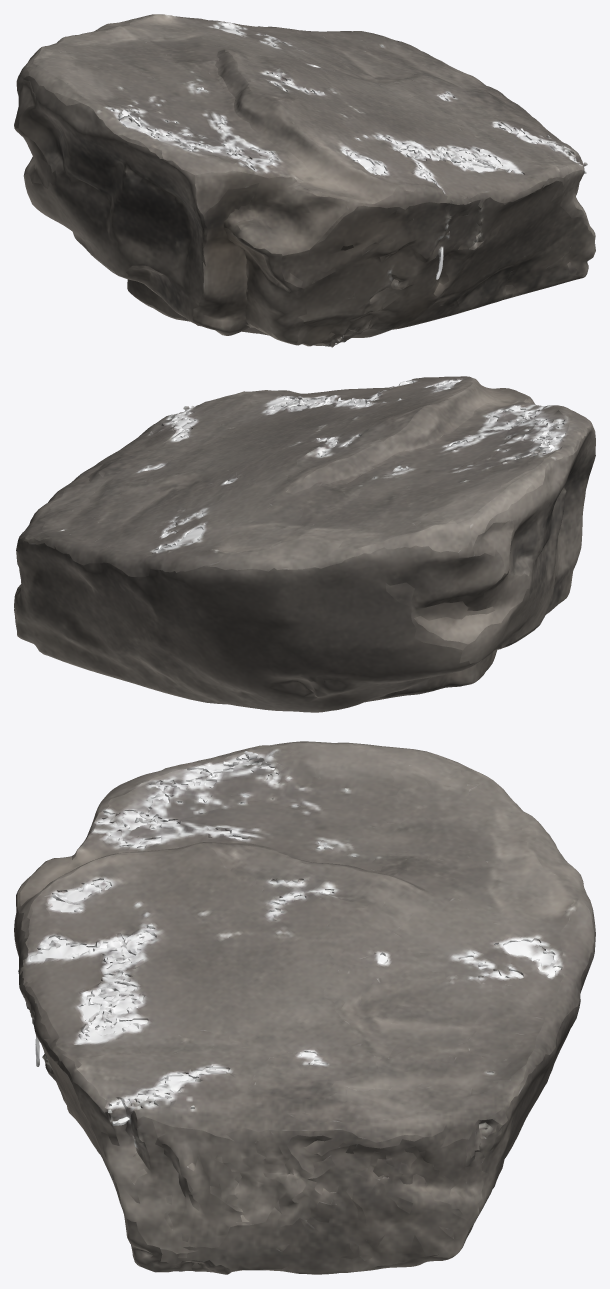
3 renders of one model, top to bottom at view 1: azimuth 30°, elevation 25°; view 2: azimuth 150°, elevation 25°; view 3: azimuth 270°, elevation 25°, orthographic. The views are drawn at different scales.
Visible parts, largest first — view 1: world; view 2: world; view 3: world.
Part boxes in pixels (bbox=[...]): world: bbox=[14, 14, 595, 347]; world: bbox=[14, 376, 595, 712]; world: bbox=[14, 741, 595, 1274].
Bounding box in the file's own units: 0.45 × 0.2188 × 0.4118.
1 material, 1 textured.
